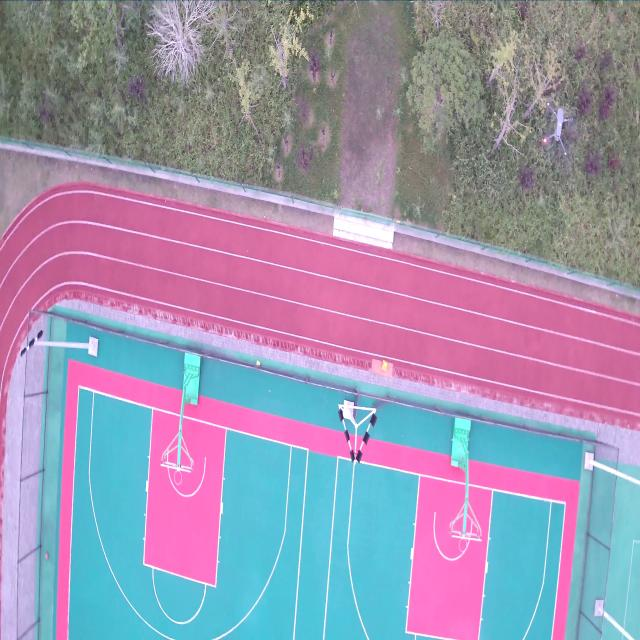UAV: (542, 100, 573, 158)
